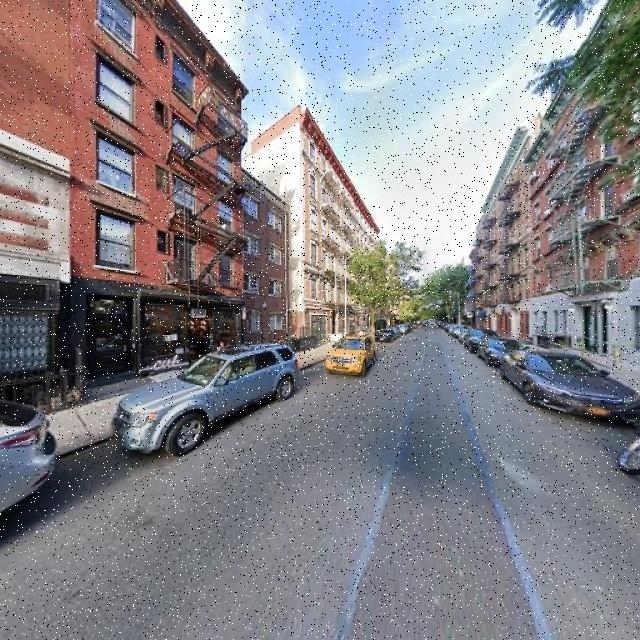Building: (64, 1, 243, 387), (537, 1, 640, 367), (1, 1, 58, 399), (304, 110, 352, 345), (245, 172, 287, 353), (355, 195, 377, 335)
